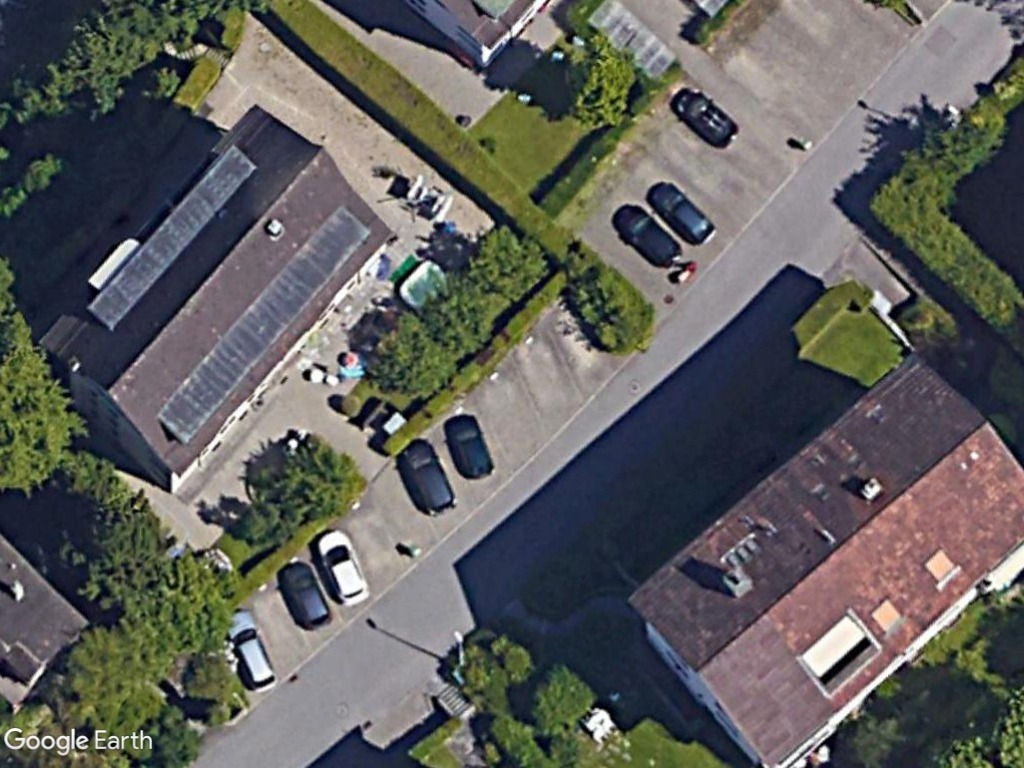car: (218, 605, 281, 689), (645, 181, 720, 247), (315, 528, 372, 608), (614, 207, 683, 267), (279, 559, 336, 630), (447, 411, 496, 481)
